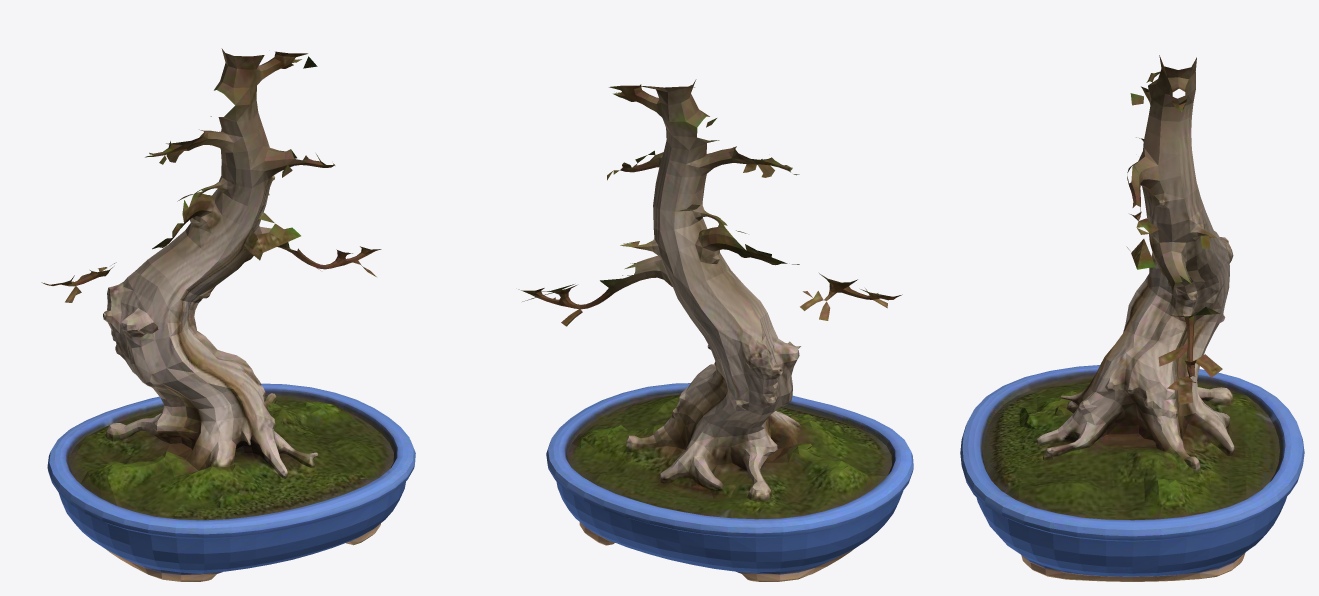
The model's file is wood.glb.
The picture shows the model from 3 angles, left to right: view 1: azimuth 30°, elevation 25°; view 2: azimuth 150°, elevation 25°; view 3: azimuth 270°, elevation 25°; orthographic projection. The views are drawn at different scales.
Visible parts, largest first — view 1: geometry_0; view 2: geometry_0; view 3: geometry_0.
Boxes of the visible parts, left/top/right/bottom form: geometry_0: left=41, top=48, right=415, bottom=581; geometry_0: left=518, top=79, right=913, bottom=581; geometry_0: left=960, top=55, right=1304, bottom=581.
Bounding box in the file's own units: 0.3146 × 0.3431 × 0.2077.
Materials: 1 (1 with a texture image).
